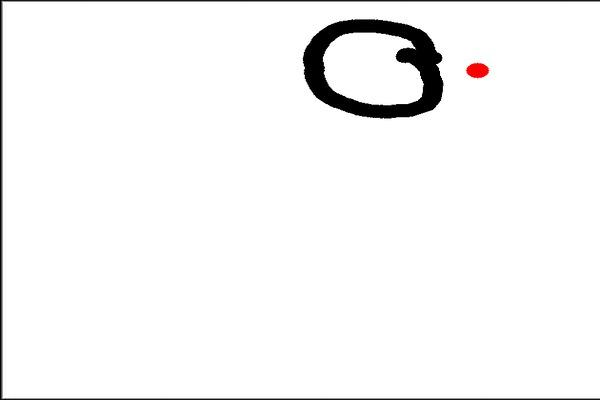O: (295, 13, 457, 135)
